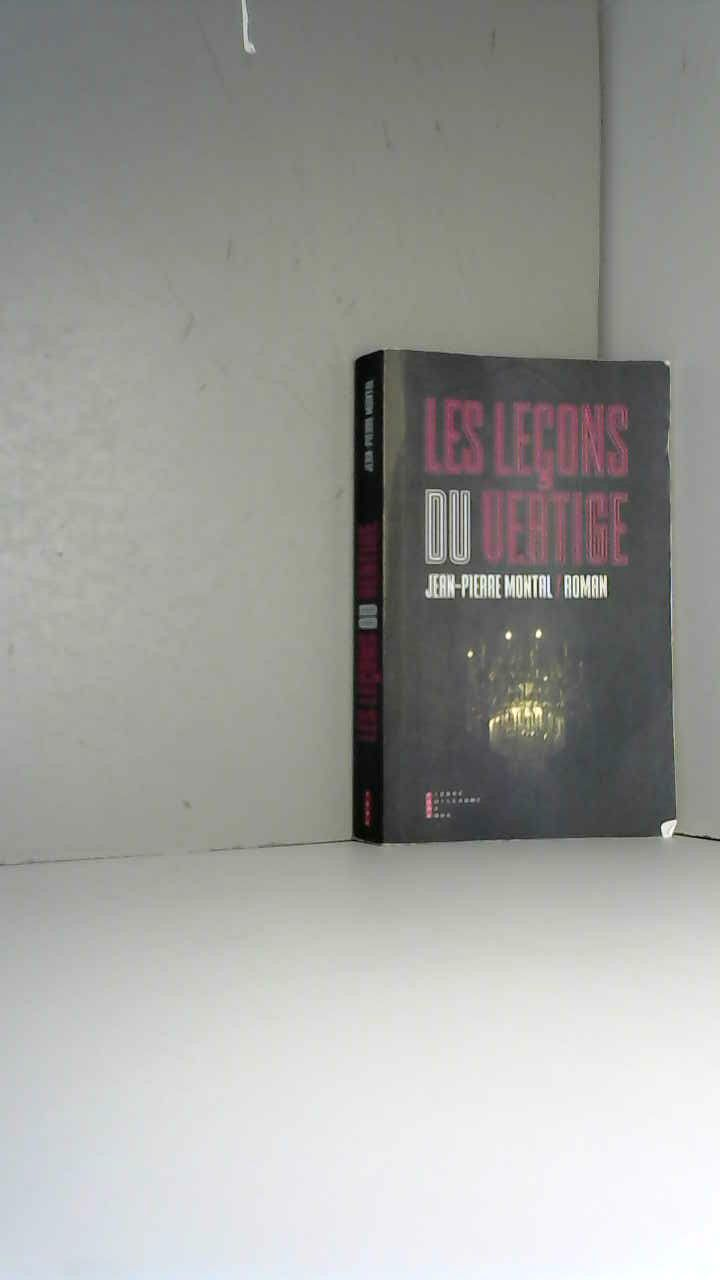book: (332, 331, 694, 869)
